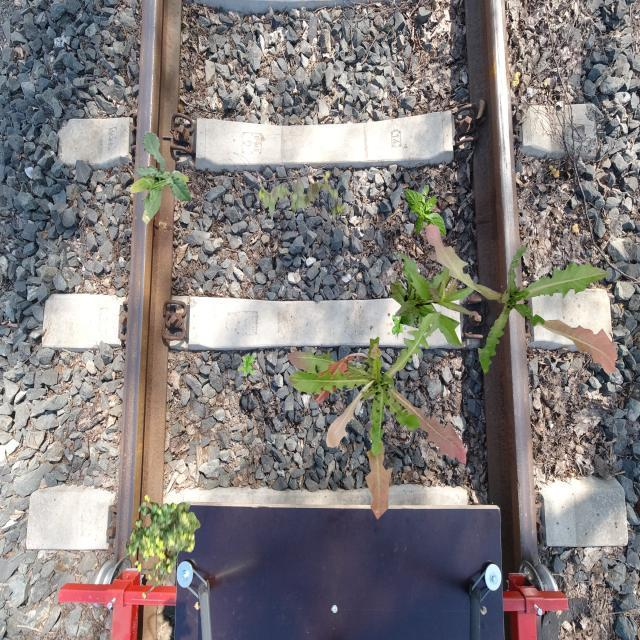Plant: (287, 312, 467, 520), (425, 223, 618, 375), (390, 251, 478, 348), (126, 494, 201, 599), (129, 131, 192, 224), (258, 170, 344, 222), (405, 184, 447, 238), (392, 313, 410, 337), (237, 354, 254, 378)
